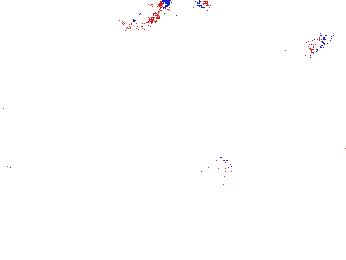X-ray fish: (200, 155, 237, 177)
glassfish: (275, 30, 335, 75)
red belly glassfish: (122, 1, 170, 39)
redtail glassfish: (158, 1, 214, 16)
